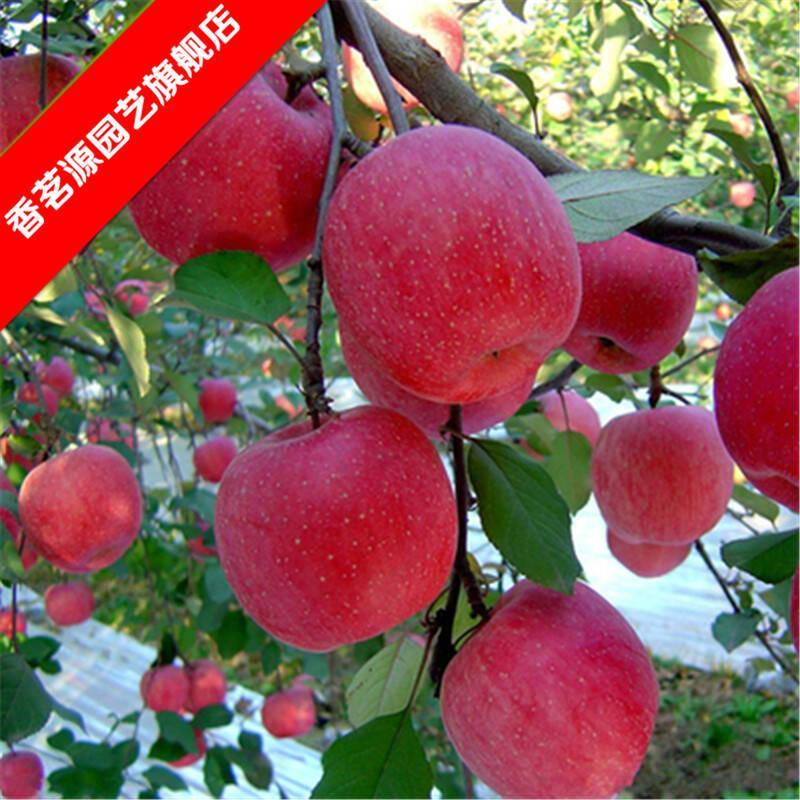apple: (329, 128, 603, 397), (210, 403, 459, 651), (438, 575, 656, 799), (129, 59, 329, 276), (582, 404, 740, 549), (17, 442, 142, 571), (260, 687, 315, 739), (42, 580, 94, 626)
